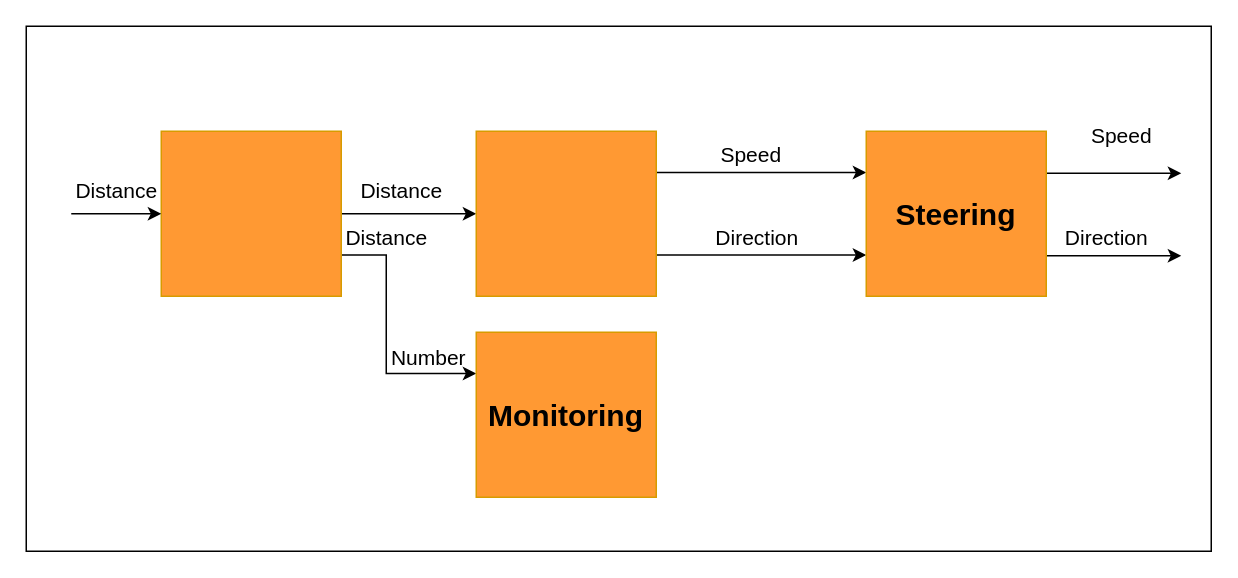
This 1238x578 diagram has some shape labels left out. The centre of each missing label's shape, as x and y in pixels:
"Crash" goes at point 565,213.
"Sensing" goes at point 250,213.
